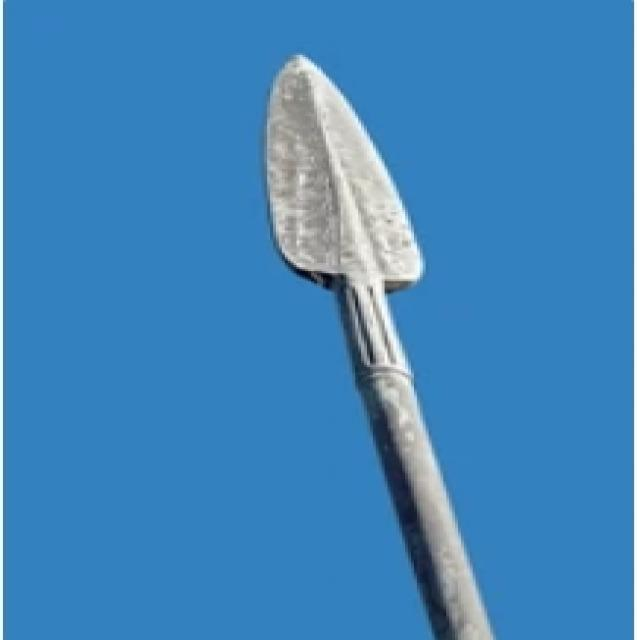spear: (236, 43, 534, 634)
